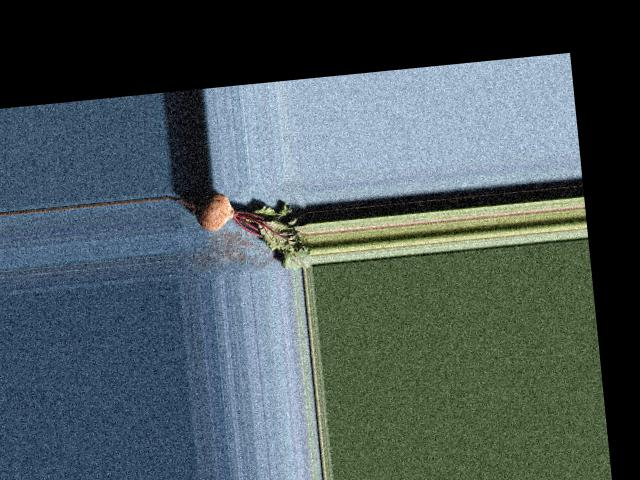beet: (169, 182, 313, 280)
